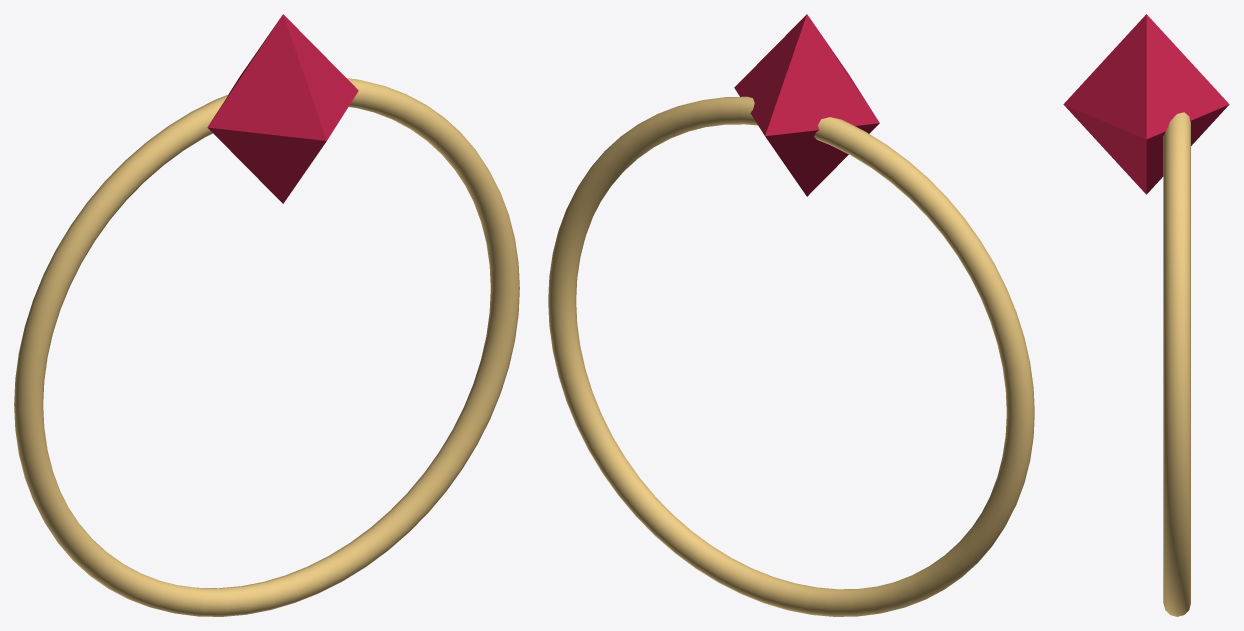
3 renders of one model, left to right at view 1: azimuth 30°, elevation 25°; view 2: azimuth 150°, elevation 25°; view 3: azimuth 270°, elevation 25°, orthographic. The views are drawn at different scales.
Size of the model in its own units: 1.79 by 2.07 by 0.54.
